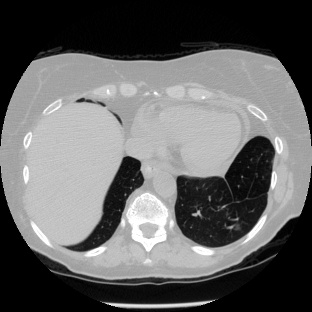PN: (235, 224, 241, 230)
